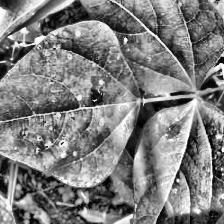Bean Rust: (0, 20, 148, 188), (47, 0, 224, 93), (134, 99, 224, 224), (0, 165, 37, 224)
